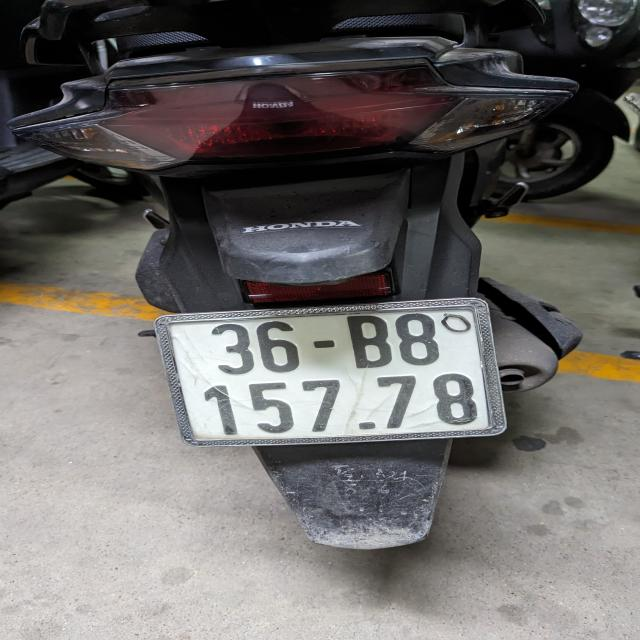License: (152, 297, 508, 448)
